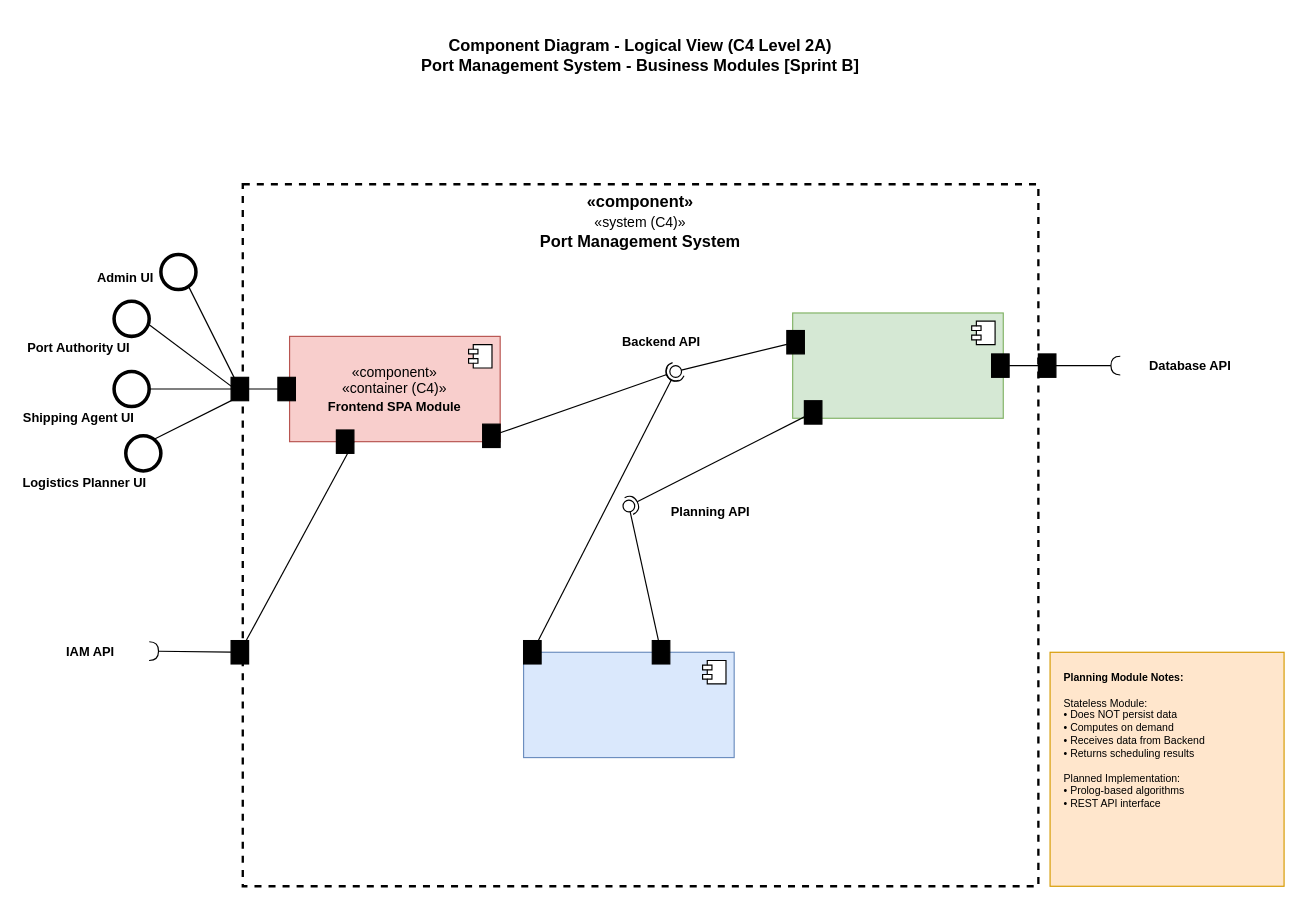
This 1305x907 diagram has some shape labels left out. Here are the shapes that lost their labels. From the top down, the box of each, then its label:
(792, 312, 1003, 418): «component» «container (C4)» Backend Domain API Module
(522, 651, 734, 758): «component» «container (C4)» Scheduling & Planning Module
